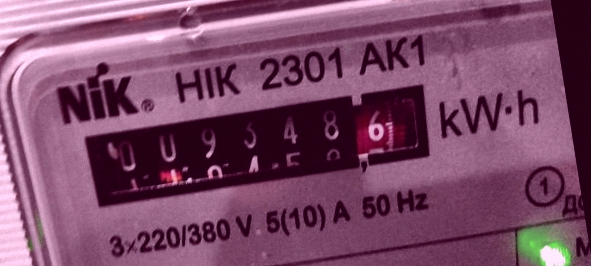0: (153, 127, 180, 166), (113, 136, 138, 173)
3: (235, 115, 261, 150)
4: (274, 109, 301, 149)
6: (362, 105, 389, 142)
8: (317, 105, 342, 141)
9: (196, 122, 219, 158)
screen: (58, 65, 455, 226)
